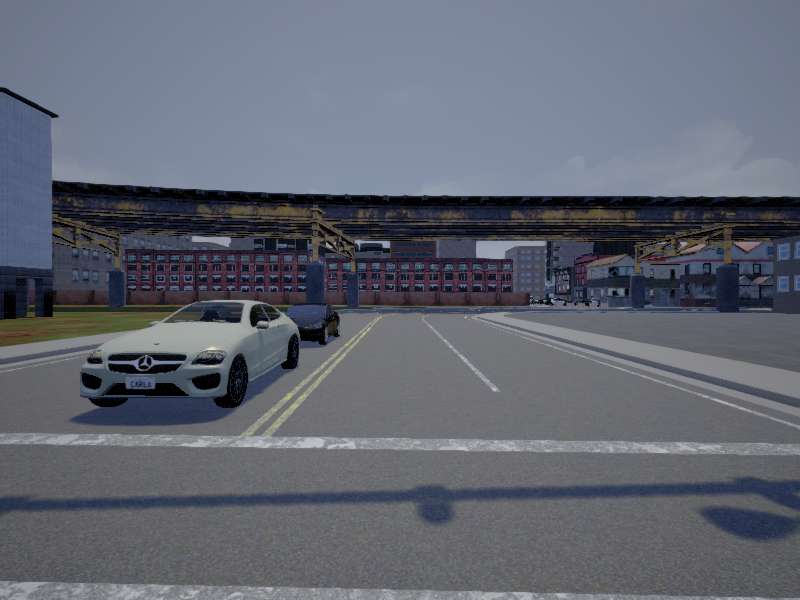Benign: (79, 299, 300, 408), (288, 306, 341, 346)
